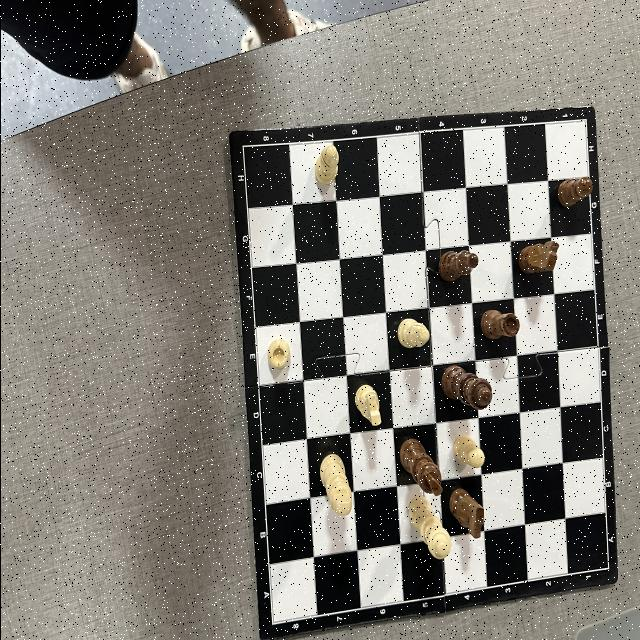Black-Bishop: (438, 250, 478, 283)
Black-King: (398, 438, 442, 496)
Black-Knight: (448, 488, 483, 539), (518, 240, 558, 274)
Black-Pawn: (556, 176, 592, 208)
Black-Queen: (441, 365, 492, 410)
Black-Rook: (480, 310, 520, 340)
White-Bishop: (396, 318, 428, 348), (314, 144, 338, 184)
White-King: (318, 454, 351, 516)
White-Knight: (353, 384, 381, 426)
White-Pawn: (452, 435, 484, 468)
White-Queen: (408, 496, 450, 560)
White-Rook: (267, 338, 289, 369)
